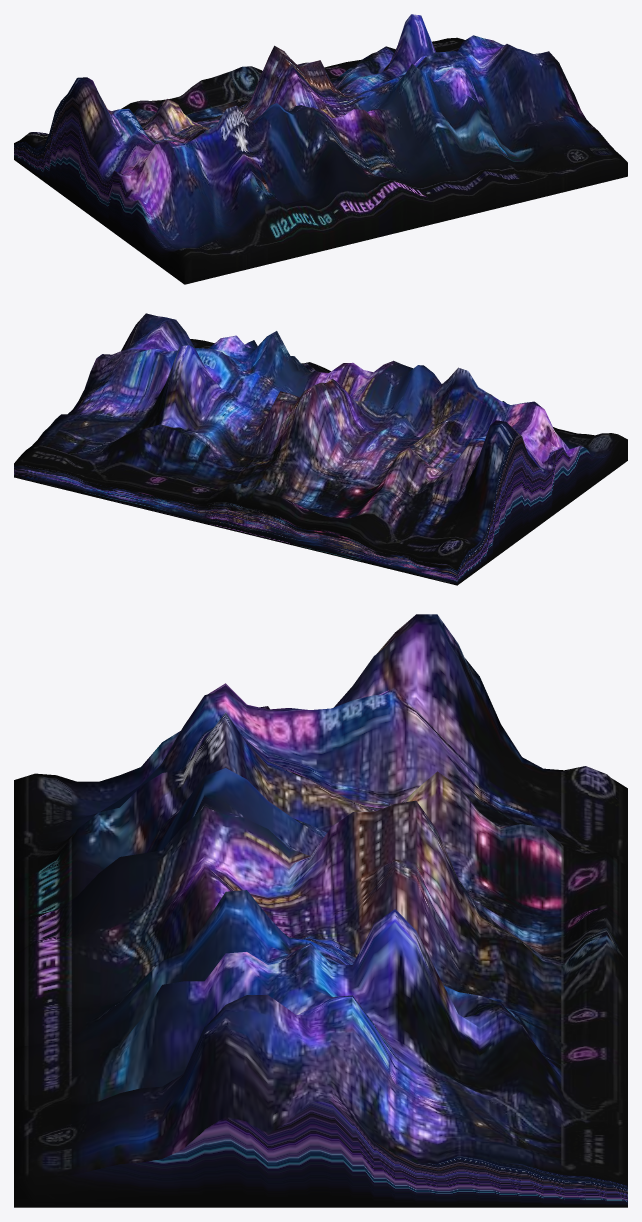
Rendered from DISTRICT_09_Entertainment.glb.
3 views of the same model, one above another, from view 1: azimuth 30°, elevation 25°; view 2: azimuth 150°, elevation 25°; view 3: azimuth 270°, elevation 25° (orthographic). The views are drawn at different scales.
Visible parts, largest first — view 1: DISTRICT_09_Entertainment; view 2: DISTRICT_09_Entertainment; view 3: DISTRICT_09_Entertainment.
Part boxes in pixels (x1=…): DISTRICT_09_Entertainment: x1=14, y1=14, x2=627, y2=284; DISTRICT_09_Entertainment: x1=14, y1=313, x2=627, y2=585; DISTRICT_09_Entertainment: x1=14, y1=614, x2=627, y2=1207.
Bounding box in the file's own units: 2 × 0.51 × 1.33.
Materials: 1 (1 with a texture image).
